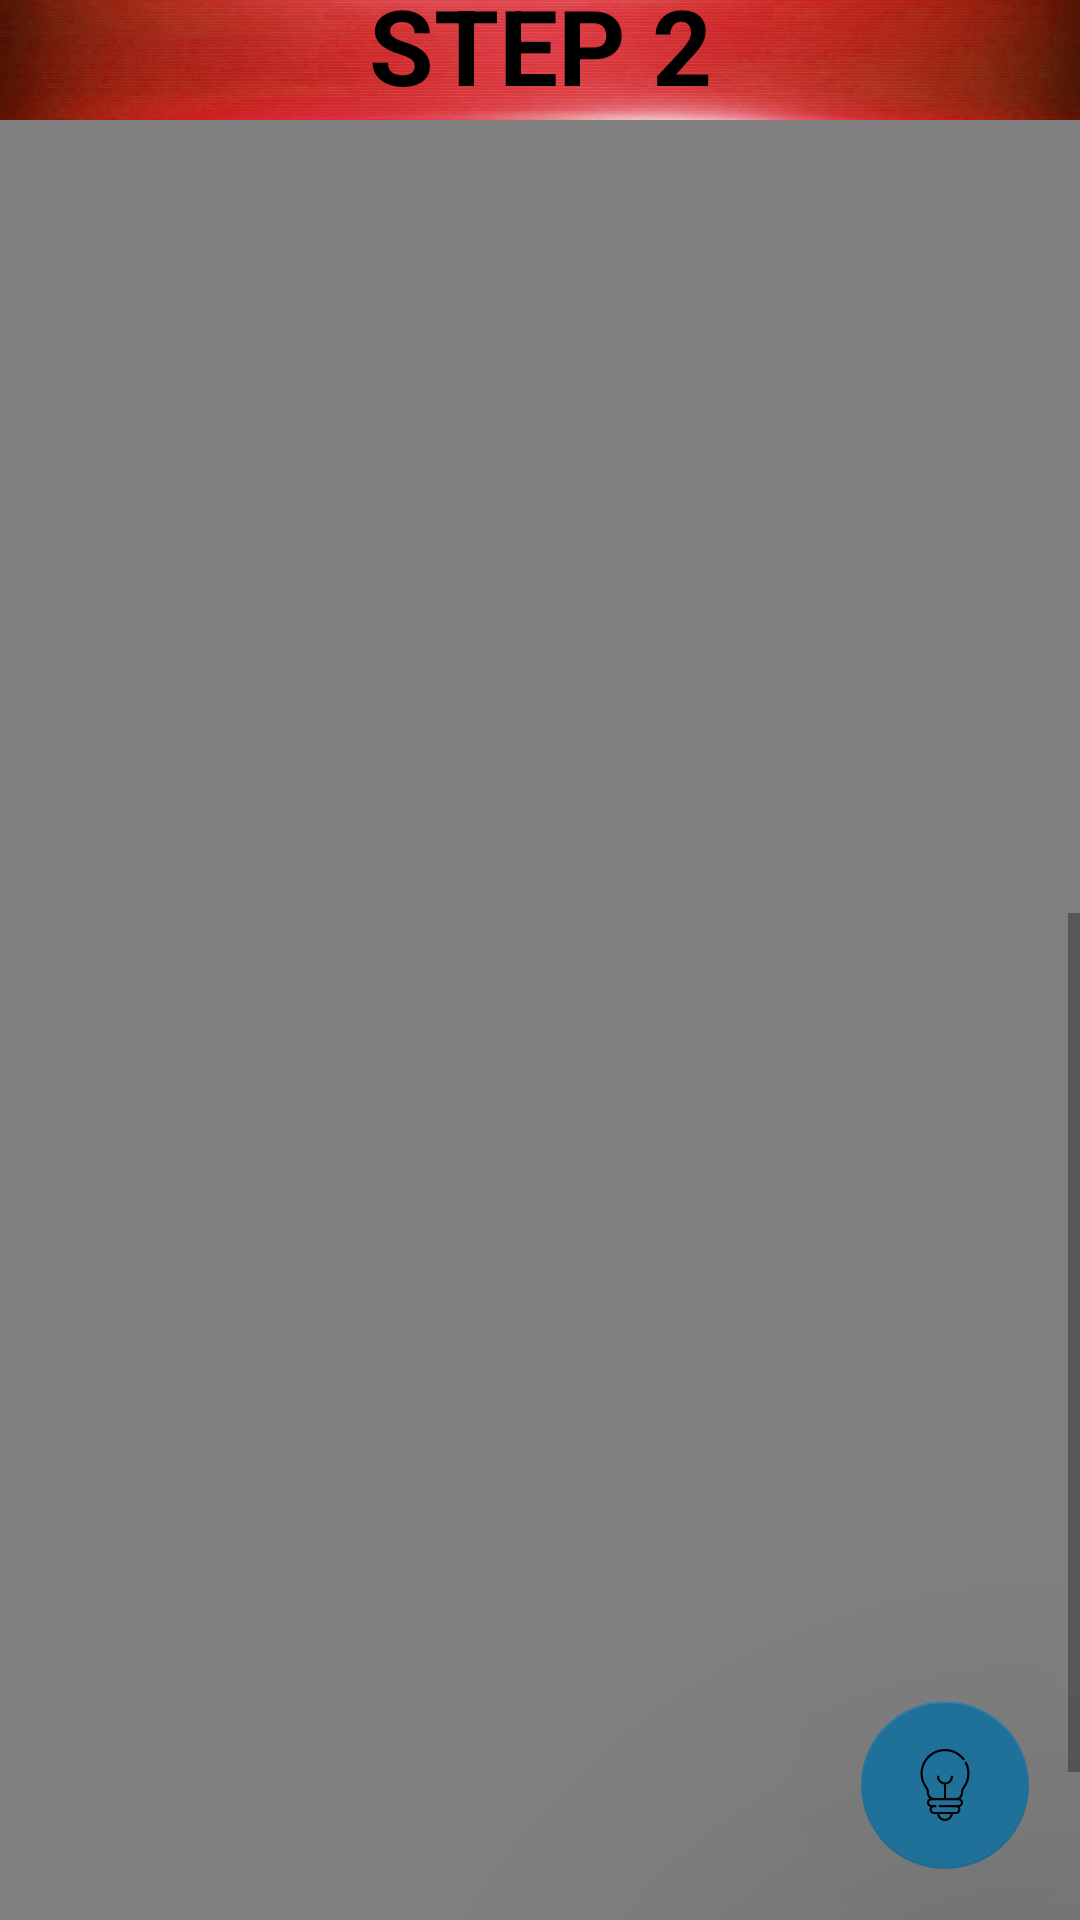

Named icons in this screenshot (1080 x 1920) and their bounding boxes, (x1, y1, x2, y2):
lightbulb: (861, 1701, 1029, 1869)
